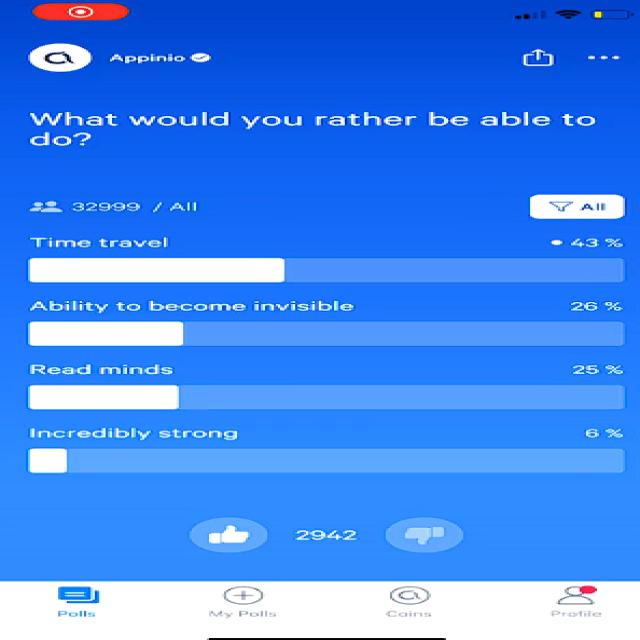icon button: (182, 581, 302, 624), (179, 512, 275, 558), (382, 512, 472, 558), (41, 581, 127, 624), (364, 583, 457, 622), (533, 583, 617, 622), (579, 40, 640, 76), (515, 42, 565, 78)
row: (28, 422, 632, 484), (22, 357, 634, 417), (22, 227, 632, 287), (22, 294, 630, 353)
text: (10, 103, 624, 156)
view: (22, 41, 103, 80)
